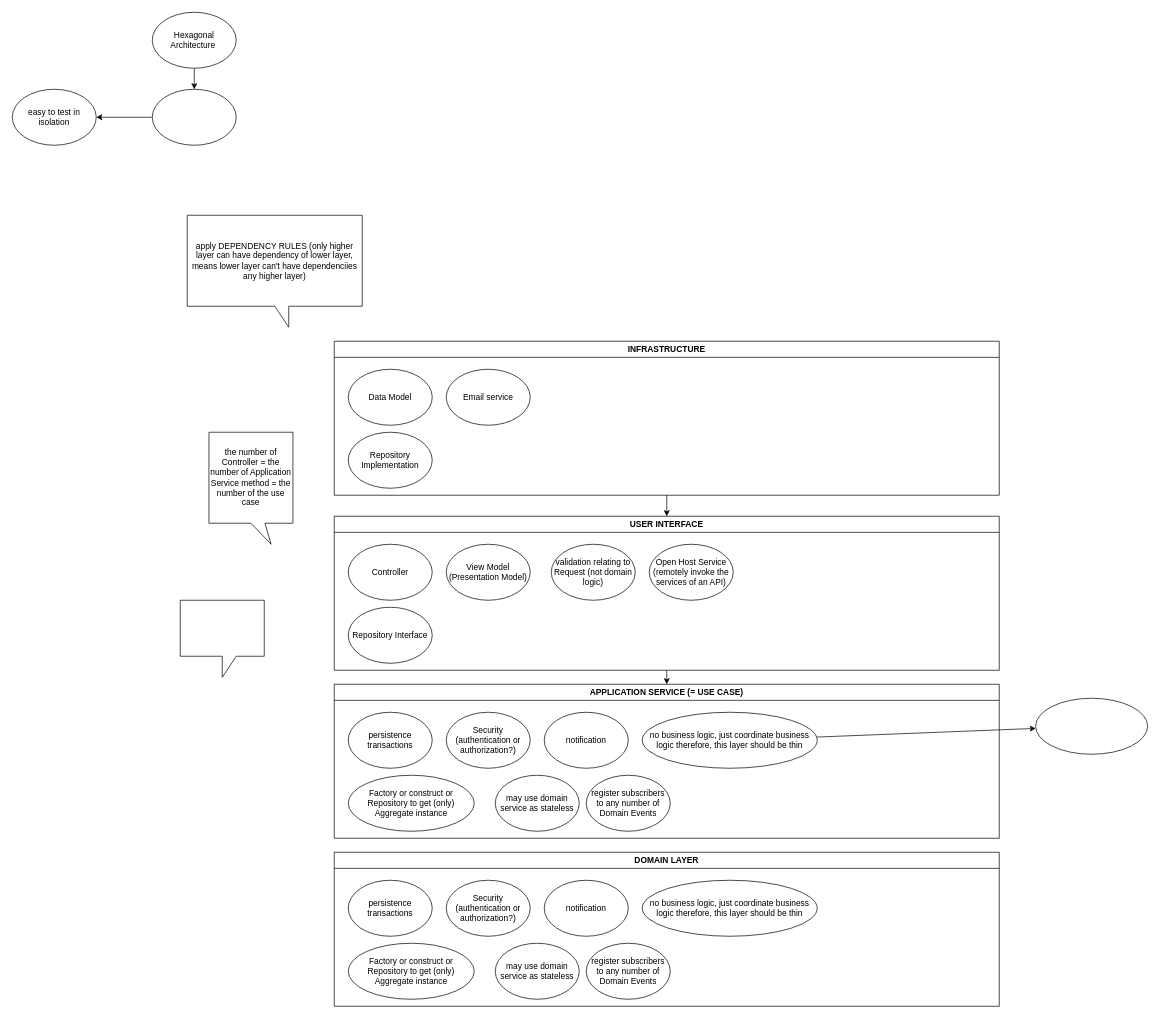
The diagram is 1160 pixels wide and 1019 high, and some of its shapes have lost their labels. Each missing label, with the centre of its shape:
advantages: pixel 194 117
any architectural concern never affect the number of Bounded Context: pixel 222 638
getting fat of this layer is code smell of amenic domain model: pixel 1091 726
